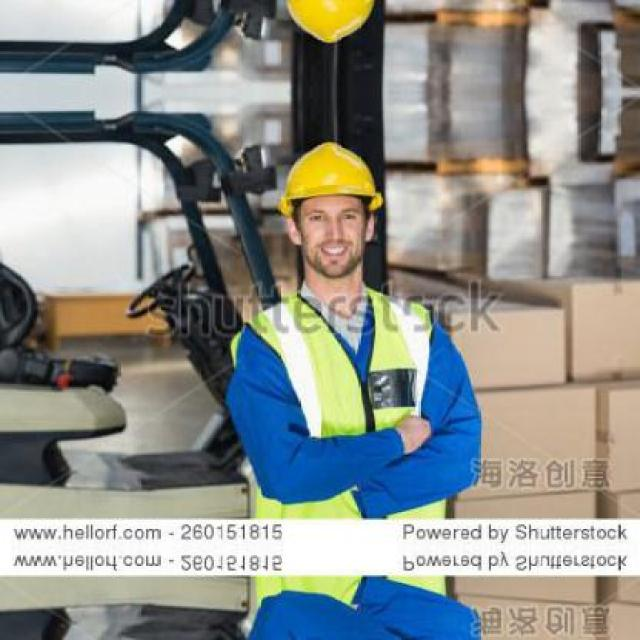helmet: (276, 128, 389, 284), (276, 0, 390, 57)
